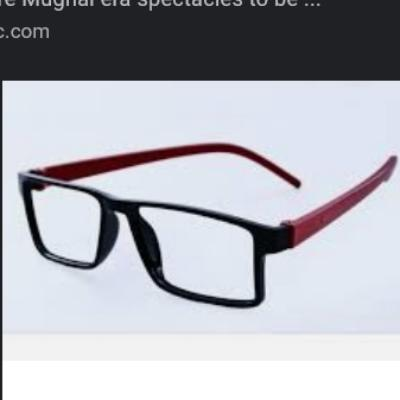glasses: (18, 140, 400, 311)
